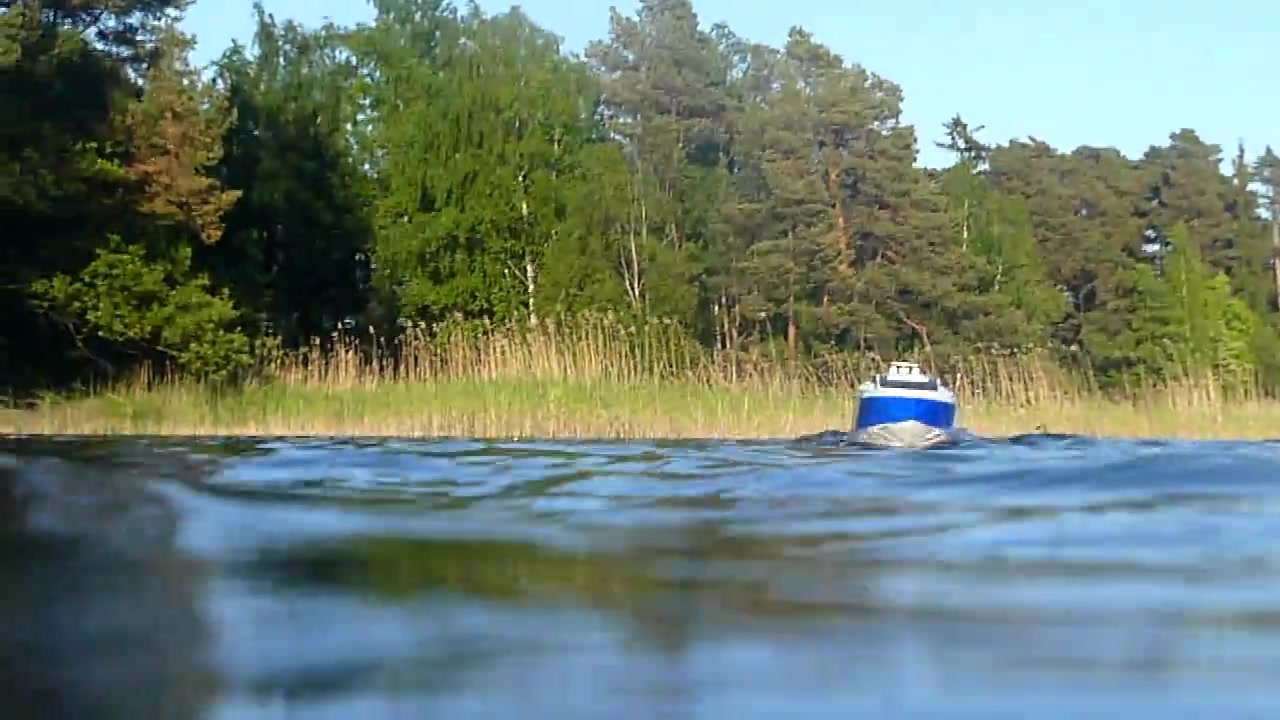boat: (847, 352, 965, 459)
